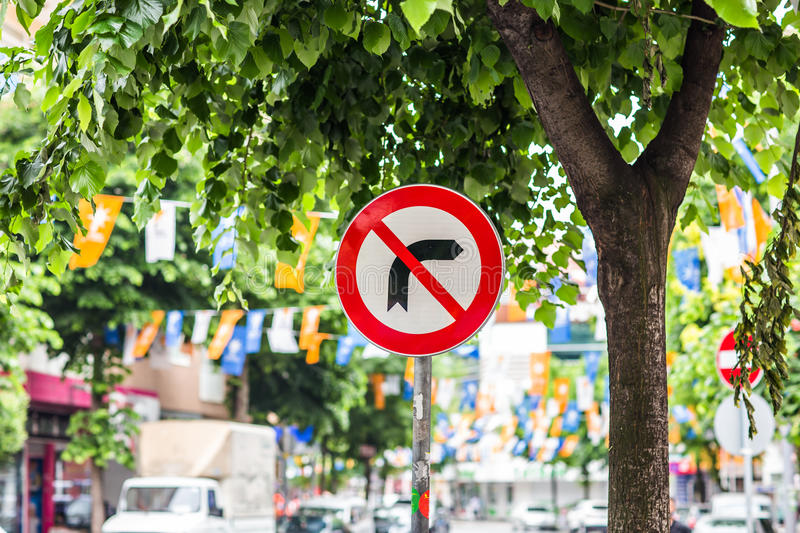No_right_turn: (335, 182, 506, 357)
